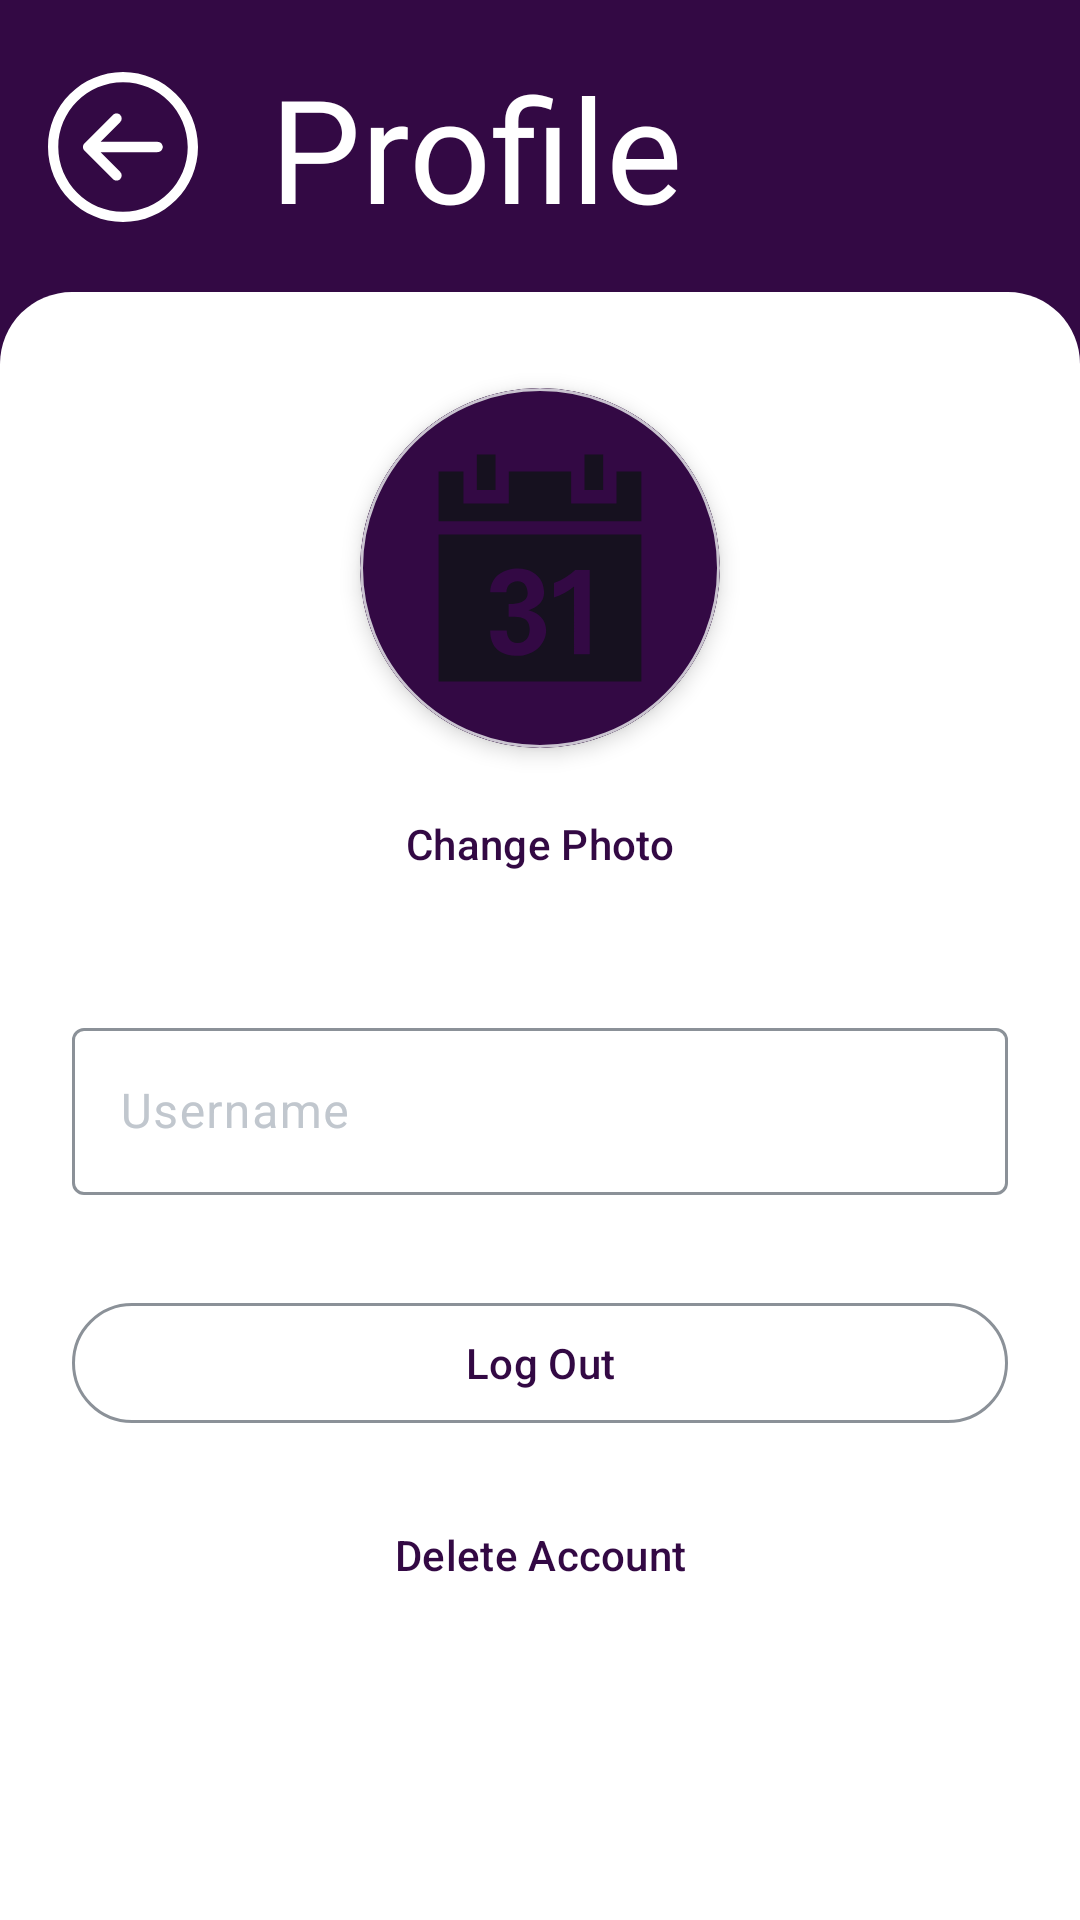

Named icons in this screenshot (1080 × 1920) and their centers, [x,y]:
back: [123,147]
calendar: [540,568]
